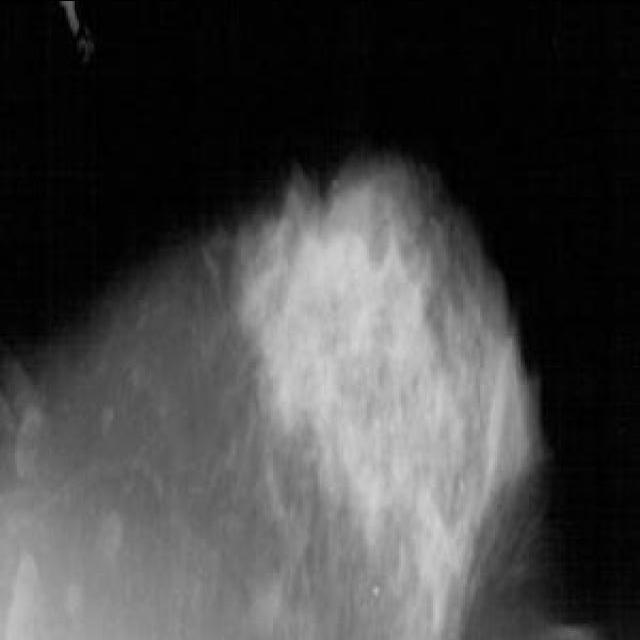tumor: (225, 191, 424, 402), (453, 336, 526, 601)
